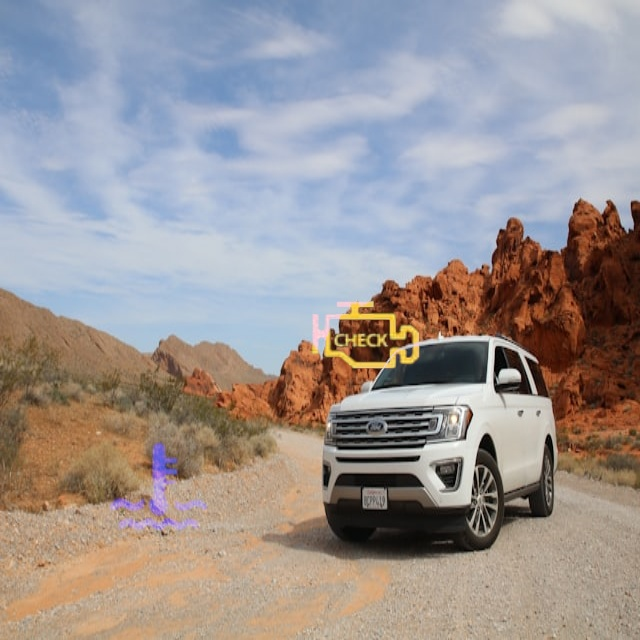symbol: (286, 257, 443, 414), (86, 415, 231, 560)
